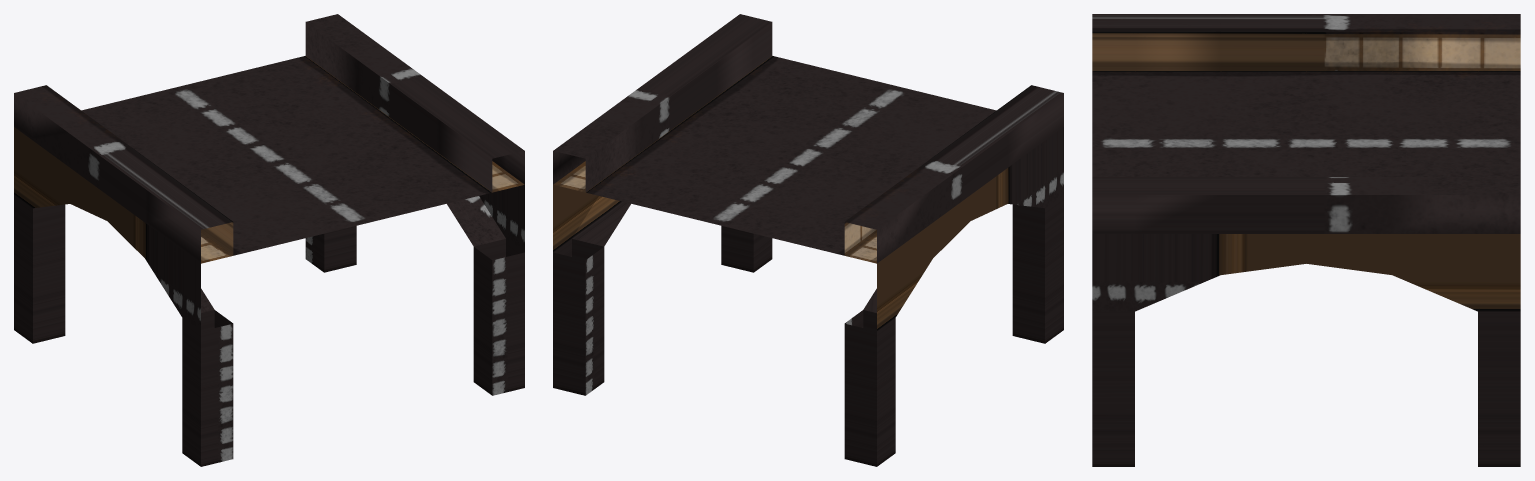
File: Bridge_Straight.fbx
The picture shows the model from 3 angles, left to right: view 1: azimuth 30°, elevation 25°; view 2: azimuth 150°, elevation 25°; view 3: azimuth 270°, elevation 25°; orthographic projection. The views are drawn at different scales.
Visible parts, largest first — view 1: Bridge_Straight; view 2: Bridge_Straight; view 3: Bridge_Straight.
Part boxes in pixels (x1,y1,x2,y2): Bridge_Straight: (14,14,524,466); Bridge_Straight: (553,14,1063,466); Bridge_Straight: (1092,14,1520,466).
Size of the model in its own units: 100 by 70 by 100.
